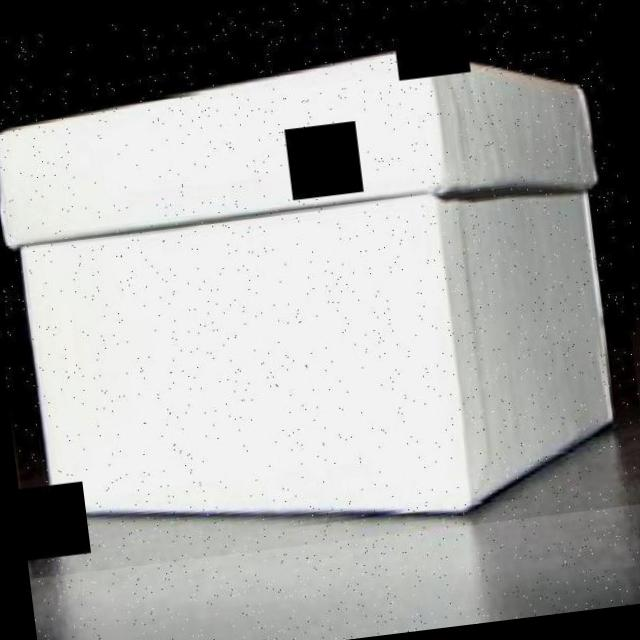box: (0, 19, 640, 578)
